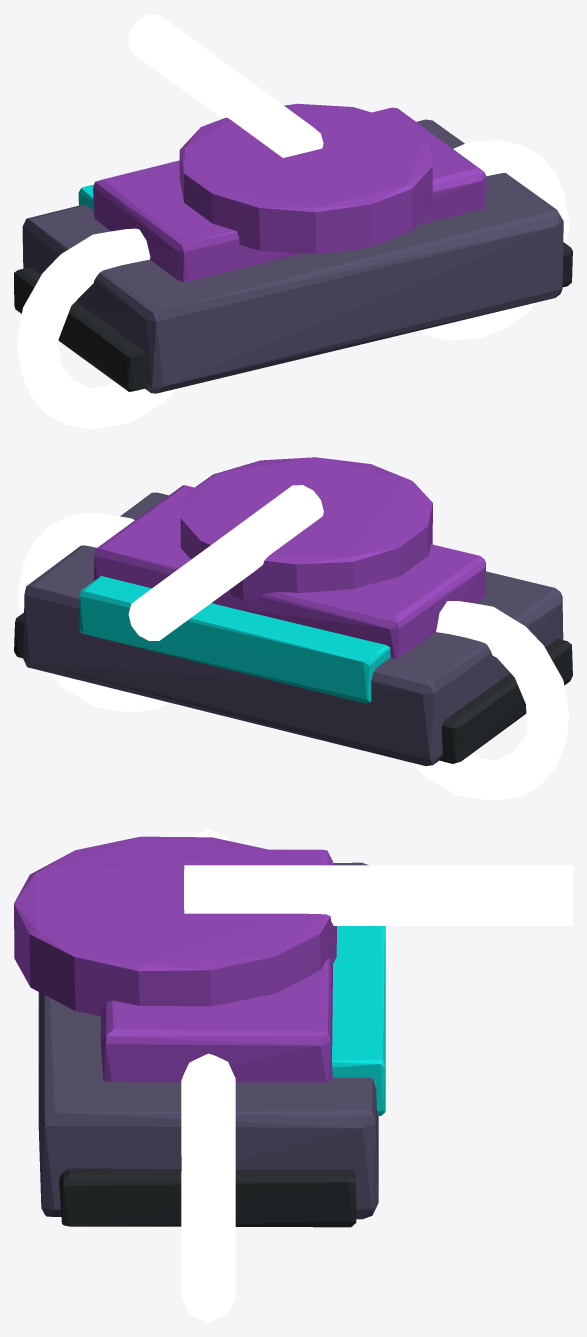
File: SM_Chronolegion_CH_DeltaDelayArtillery_LOD1.fbx
3 views of the same model, one above another, from view 1: azimuth 30°, elevation 25°; view 2: azimuth 150°, elevation 25°; view 3: azimuth 270°, elevation 25° (orthographic). The views are drawn at different scales.
Visible parts, largest first — view 1: LOD01_SM_Chronolegion_CH_DeltaDelayArtillery; view 2: LOD01_SM_Chronolegion_CH_DeltaDelayArtillery; view 3: LOD01_SM_Chronolegion_CH_DeltaDelayArtillery.
Part boxes in pixels (box(x1,y1,x2,y2)): LOD01_SM_Chronolegion_CH_DeltaDelayArtillery: box(14, 14, 572, 428); LOD01_SM_Chronolegion_CH_DeltaDelayArtillery: box(14, 457, 572, 800); LOD01_SM_Chronolegion_CH_DeltaDelayArtillery: box(14, 829, 572, 1322).
Size of the model in its own units: 597 by 418 by 273.
